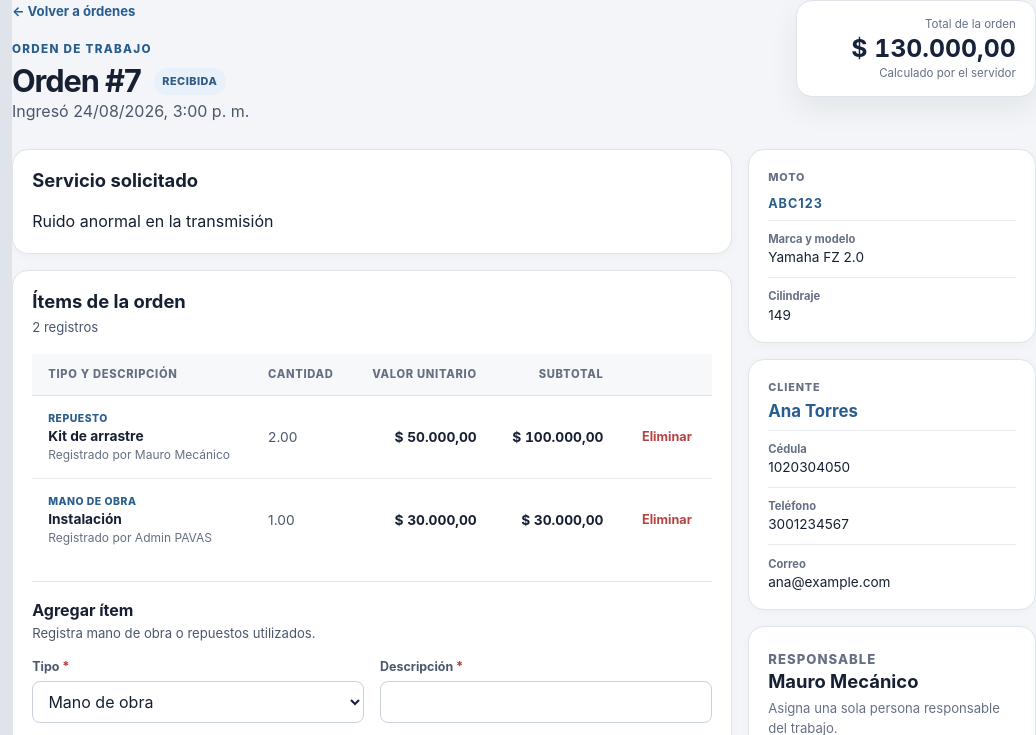
Test case: WorkOrderDetailPage › adds and deletes items, refetching the authoritative total after each mutation
This screenshot has width=1036, height=735.
Expected: the heading "Orden #7" is shown, [12,64,141,99]
Type "Revisión eléctrica" into the field labelled "Descripción *" at (546, 702), box [380,681,712,723]
(page scrolled)
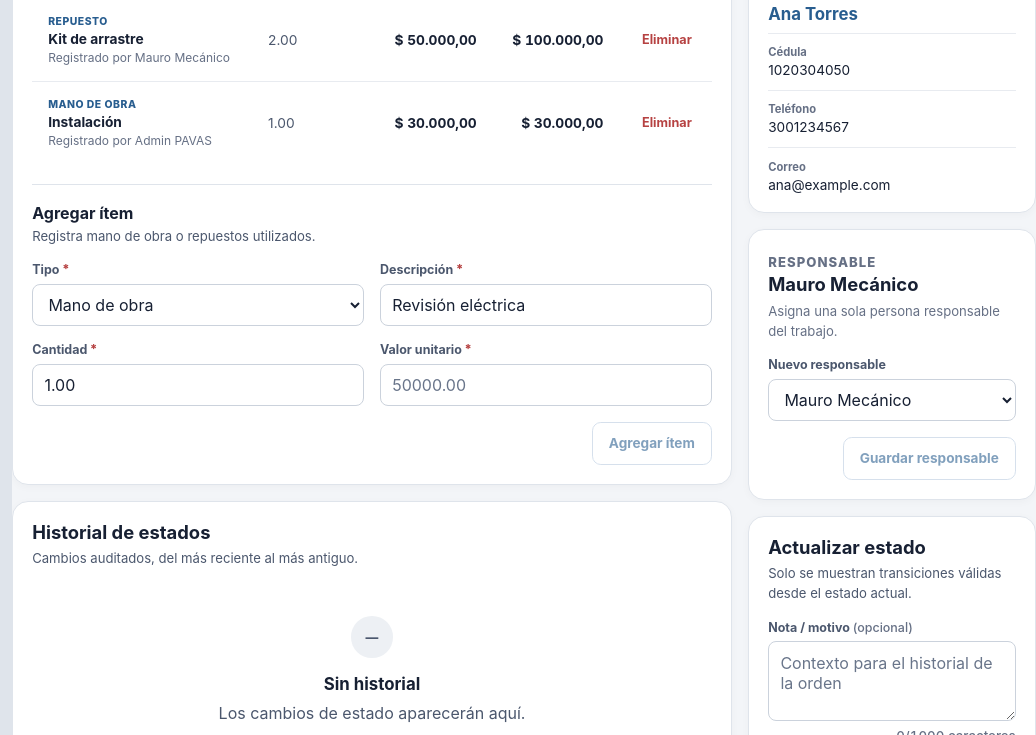
Type "1.50" into the field labelled "Cantidad *" at (198, 385), box [32,364,364,406]
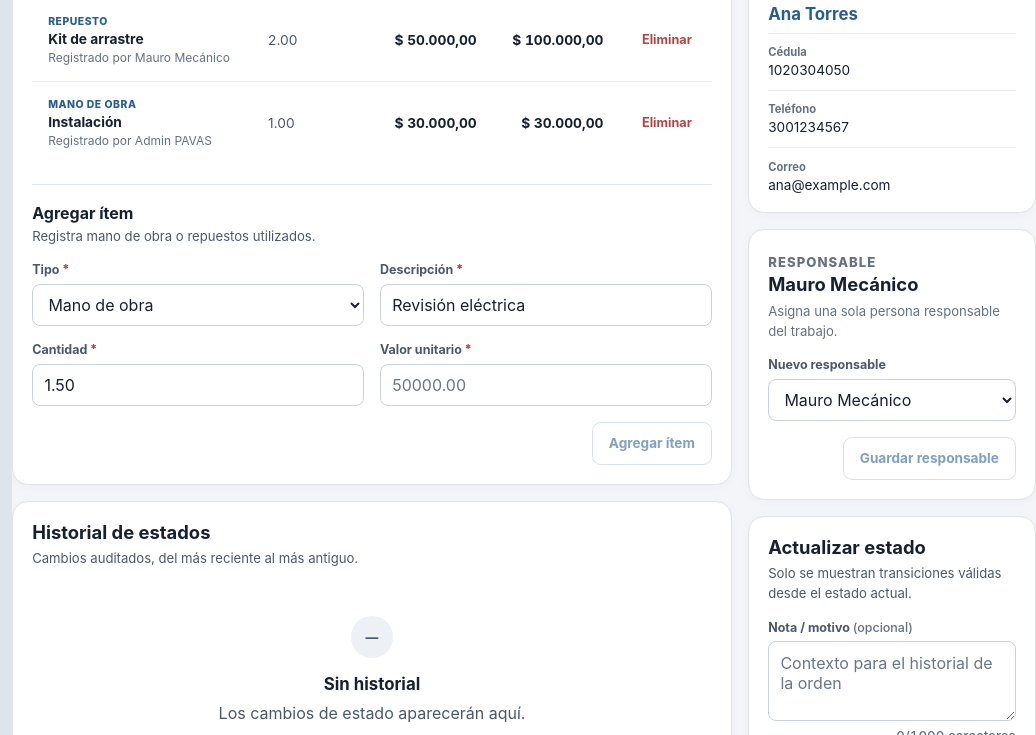
Type "20000.00" into the field labelled "Valor unitario *" at (546, 385), box [380,364,712,406]
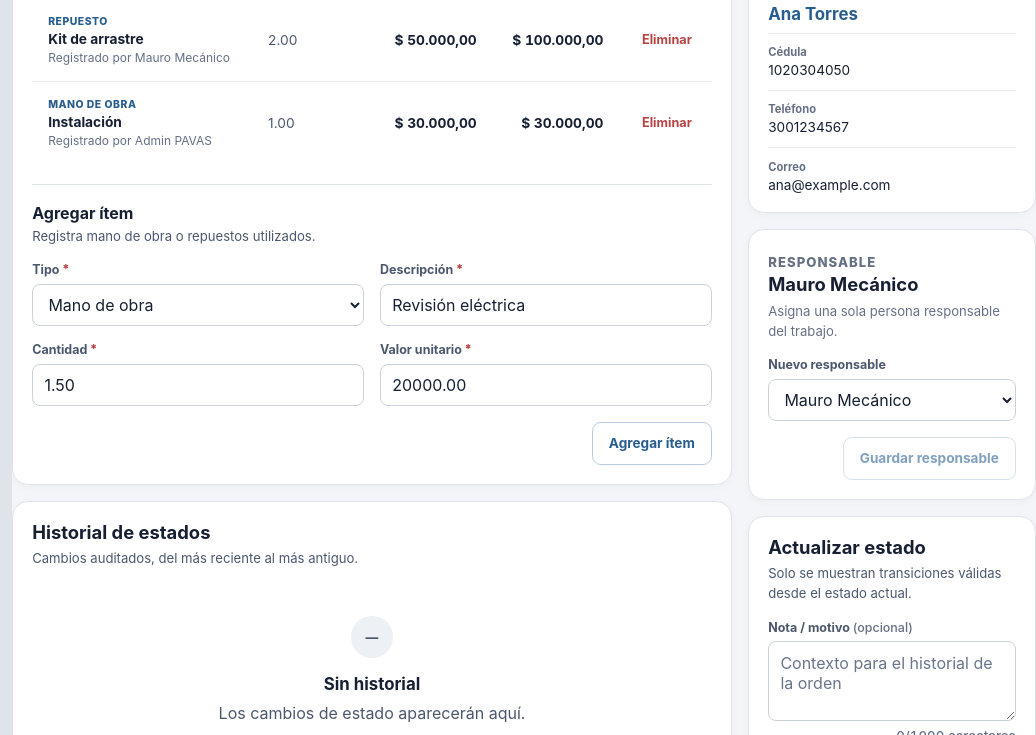
Click the button "Agregar ítem" at (652, 443), box [592,422,712,464]
(page scrolled)
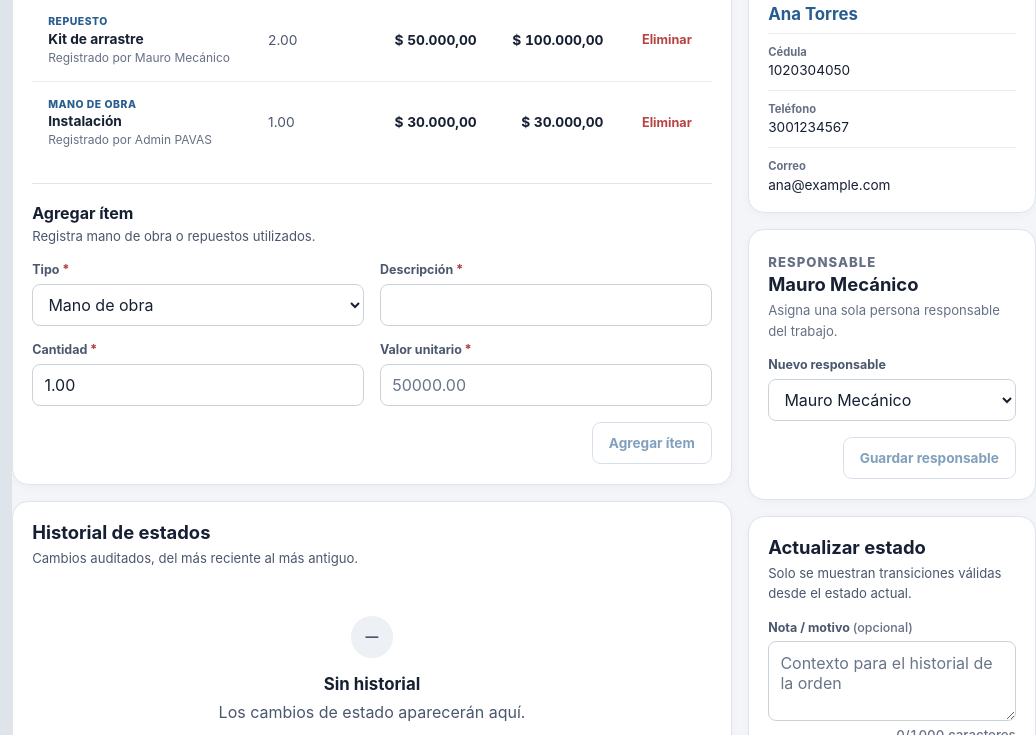
Click the button with aria-label "eliminar kit de arrastre" at (667, 40), box [638,28,696,51]
(page scrolled)
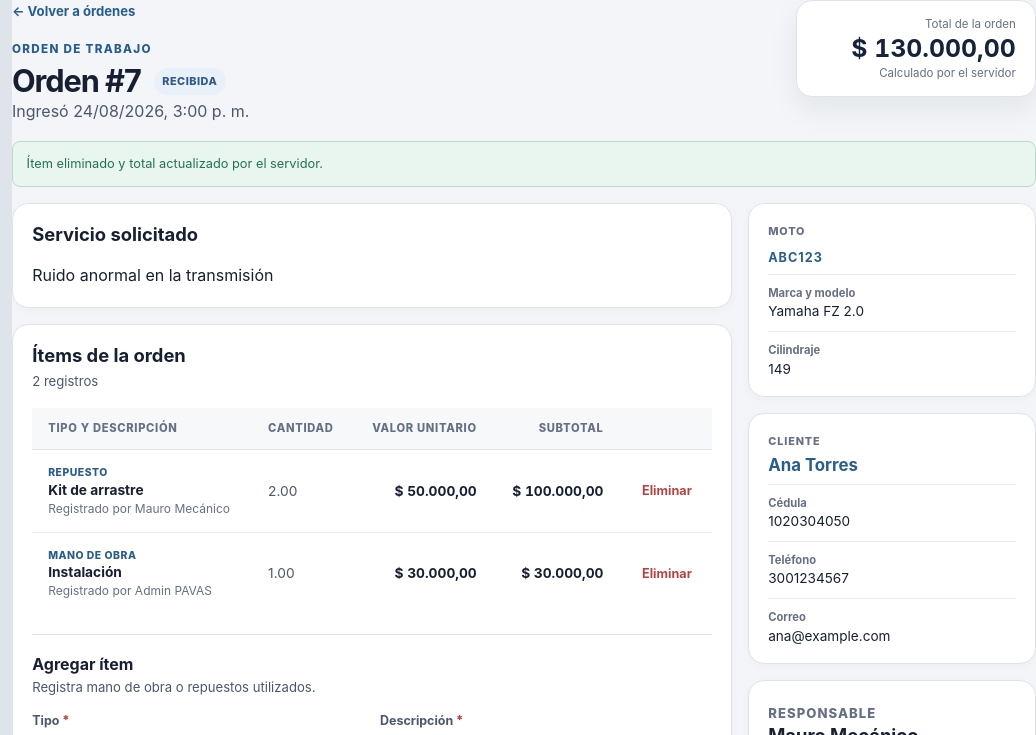
Expected: the text "Ítem eliminado y total actualizado por el servidor." is shown, [12,141,1035,187]
